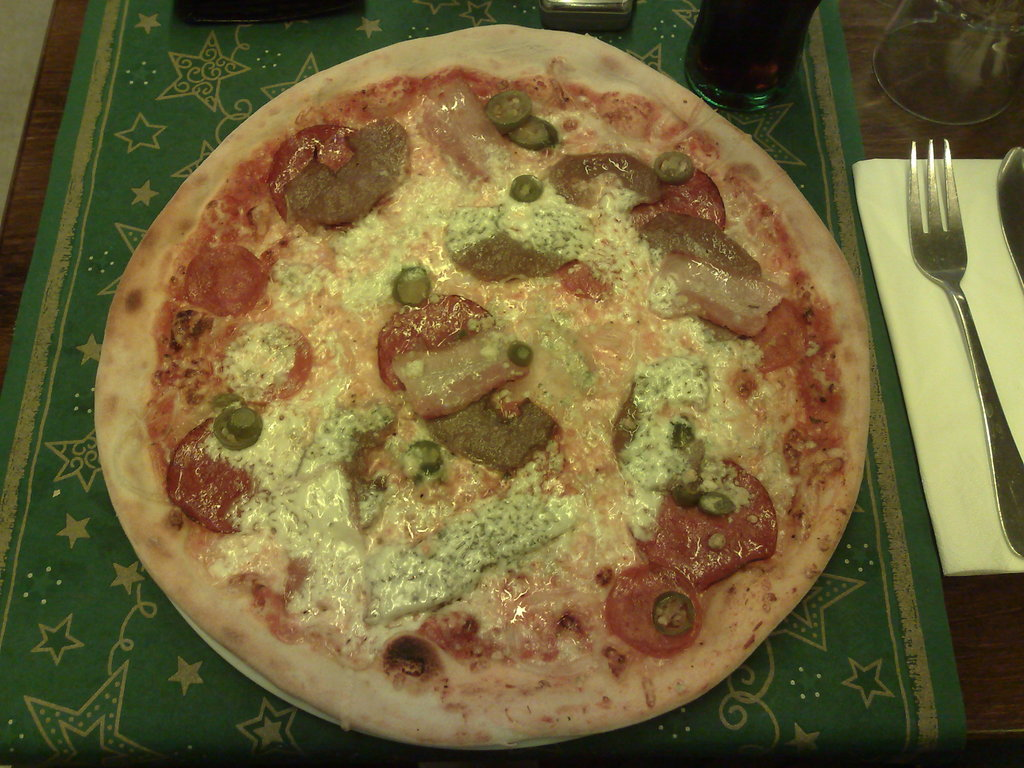pizza: (93, 20, 873, 746)
